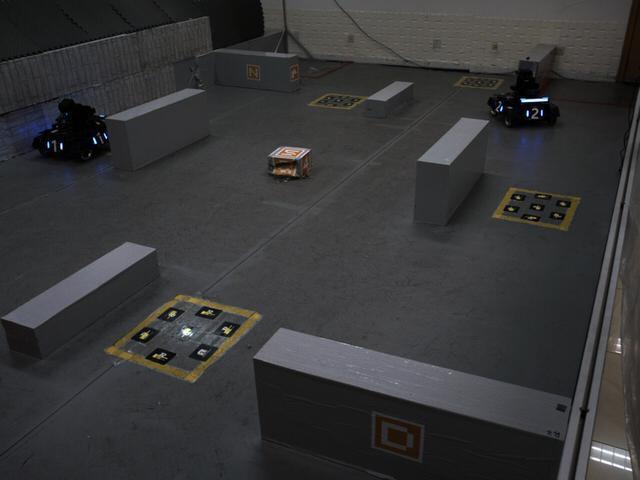armor: (86, 130, 110, 149), (43, 137, 67, 156), (523, 104, 546, 123), (489, 98, 506, 118)
